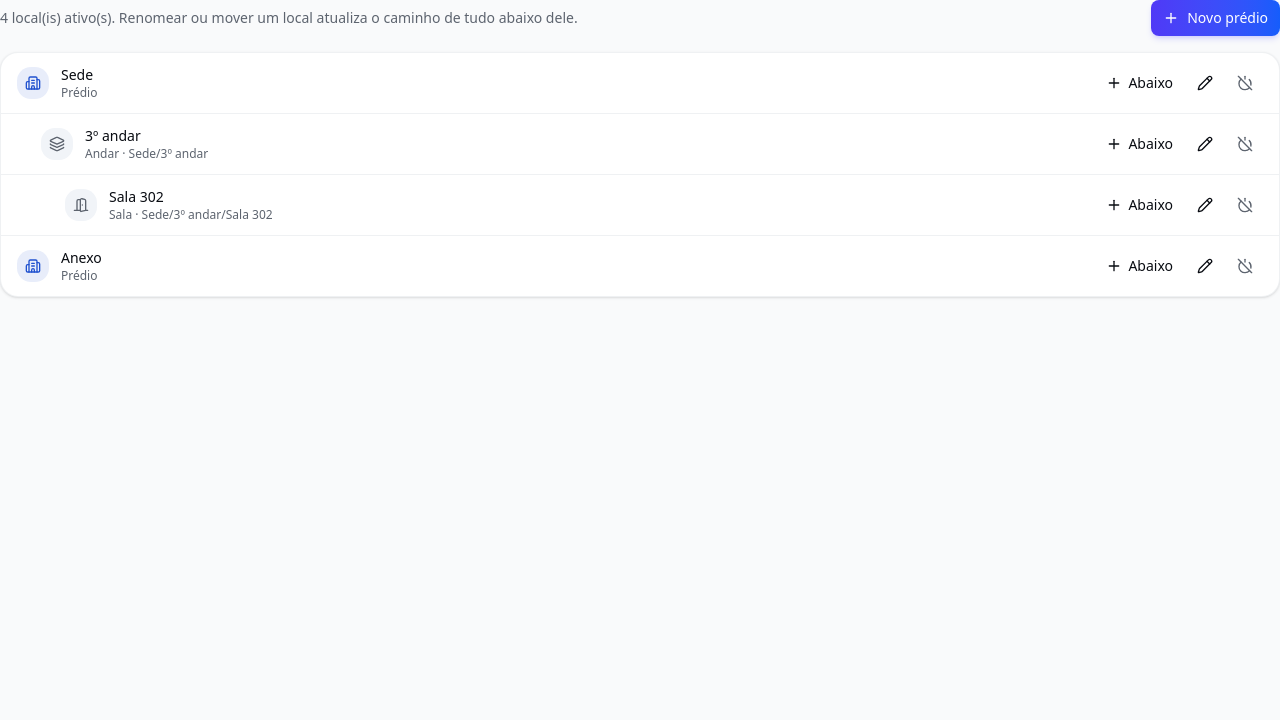
Test case: GerirLocalizacoes › Salvar fica desabilitado com nome vazio
Click the button "Novo prédio" at [1216, 18], box [1151,0,1279,36]
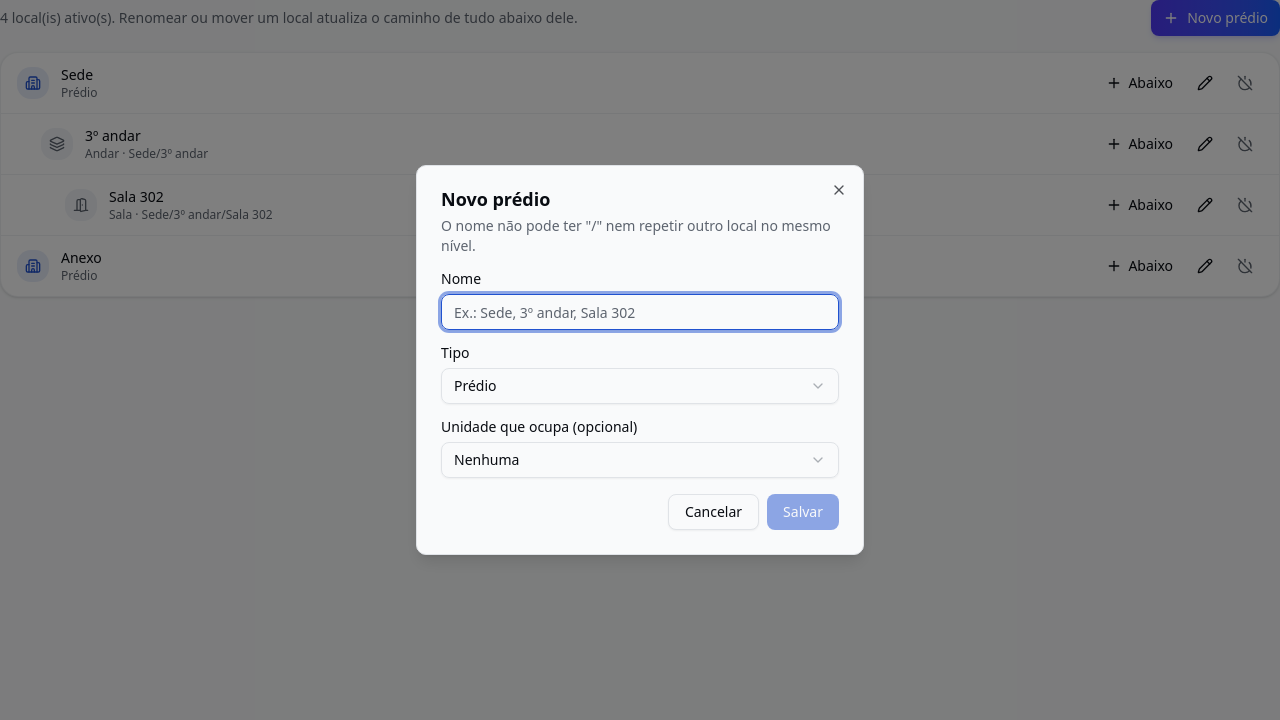
Now the button "Salvar" is disabled, box [767,494,839,530]
